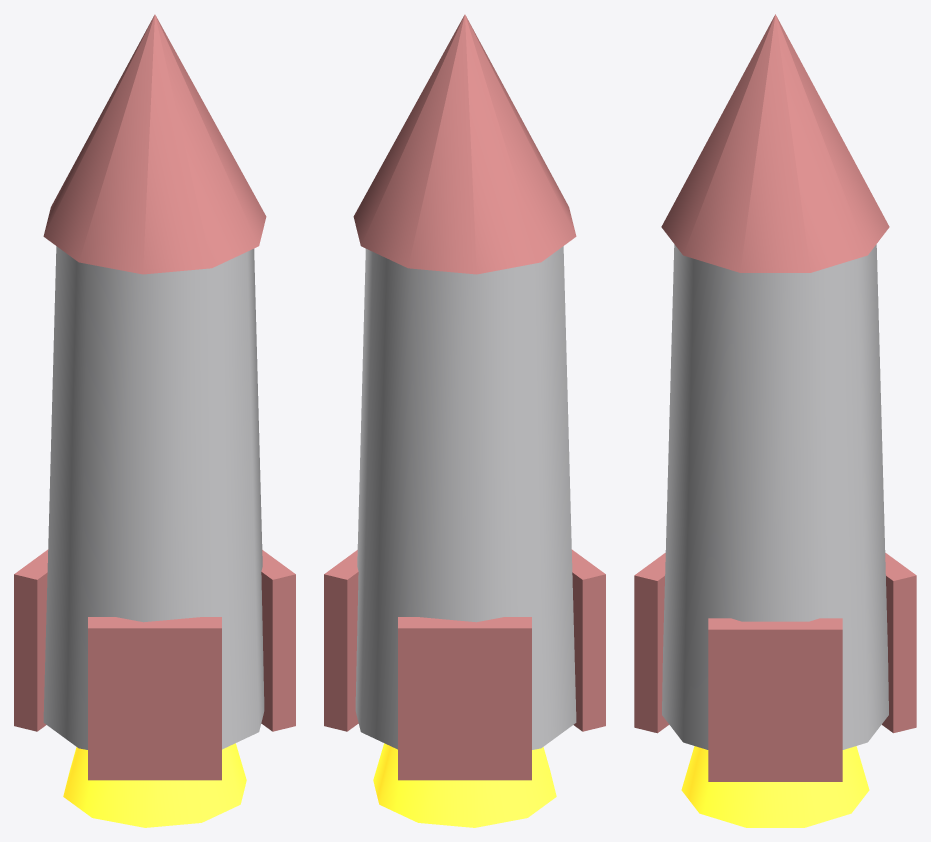
Rendered from rocket.glb.
3 views of the same model, side by side, from view 1: azimuth 30°, elevation 25°; view 2: azimuth 150°, elevation 25°; view 3: azimuth 270°, elevation 25° (orthographic).
Parts seen in each view (by area): view 1: rocket; view 2: rocket; view 3: rocket.
Part boxes in pixels (<box>): rocket: <box>14,14,295,827</box>; rocket: <box>324,14,605,827</box>; rocket: <box>634,14,916,827</box>.
Size of the model in its own units: 0.7282 by 2.55 by 0.8409.
